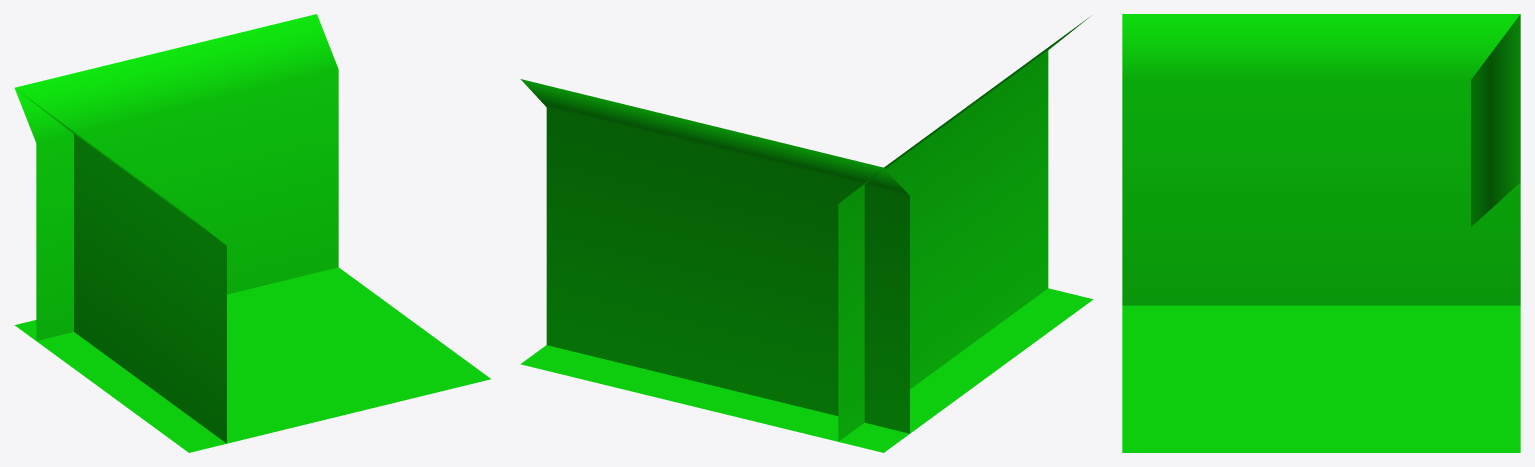
File: mesh_hedge_CIN.fbx
3 views of the same model, side by side, from view 1: azimuth 30°, elevation 25°; view 2: azimuth 150°, elevation 25°; view 3: azimuth 270°, elevation 25° (orthographic). The views are drawn at different scales.
Parts seen in each view (by area): view 1: mesh_hedge_CIN; view 2: mesh_hedge_CIN; view 3: mesh_hedge_CIN.
Boxes of the visible parts, bbox=[...] form: mesh_hedge_CIN: bbox=[14, 14, 490, 452]; mesh_hedge_CIN: bbox=[520, 16, 1093, 452]; mesh_hedge_CIN: bbox=[1122, 14, 1520, 452].
Size of the model in its own units: 400 by 300 by 400.
